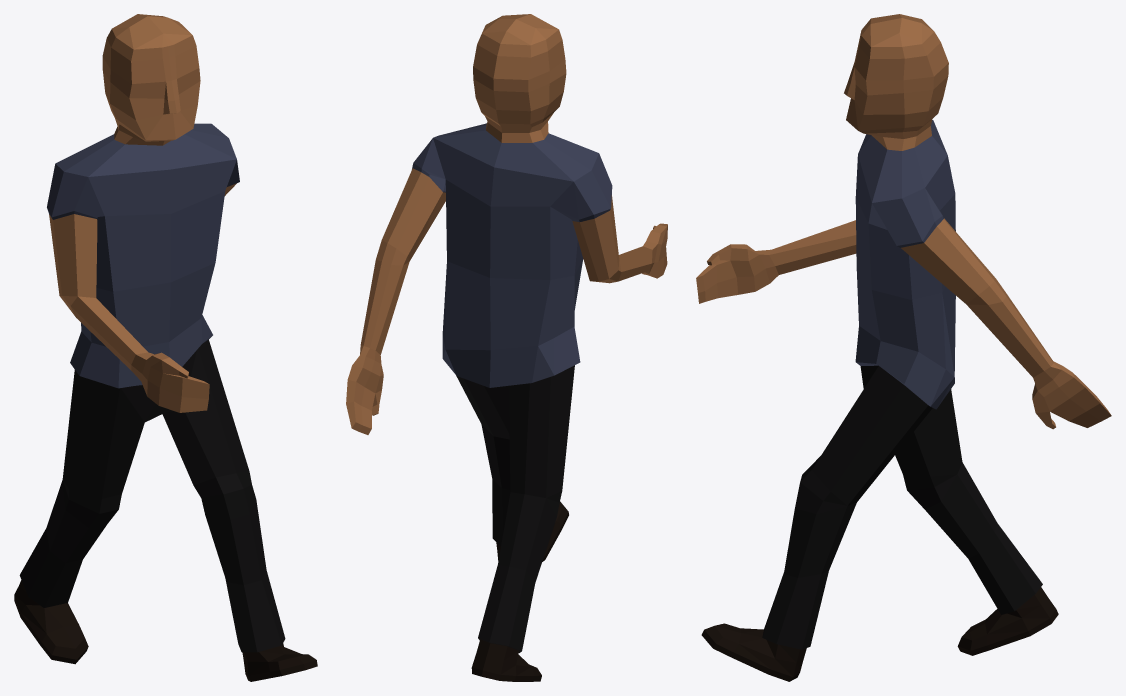
Rendered from Male_Running.obj.
3 renders of one model, left to right at view 1: azimuth 30°, elevation 25°; view 2: azimuth 150°, elevation 25°; view 3: azimuth 270°, elevation 25°, orthographic. The views are drawn at different scales.
Visible parts, largest first — view 1: Male_Running_Human_CylinderMesh.002; view 2: Male_Running_Human_CylinderMesh.002; view 3: Male_Running_Human_CylinderMesh.002.
Boxes of the visible parts, x1=… form: Male_Running_Human_CylinderMesh.002: x1=14, y1=14, x2=317, y2=681; Male_Running_Human_CylinderMesh.002: x1=346, y1=14, x2=667, y2=681; Male_Running_Human_CylinderMesh.002: x1=696, y1=14, x2=1111, y2=681.
Bounding box in the file's own units: 1.21 × 3.85 × 2.21.
